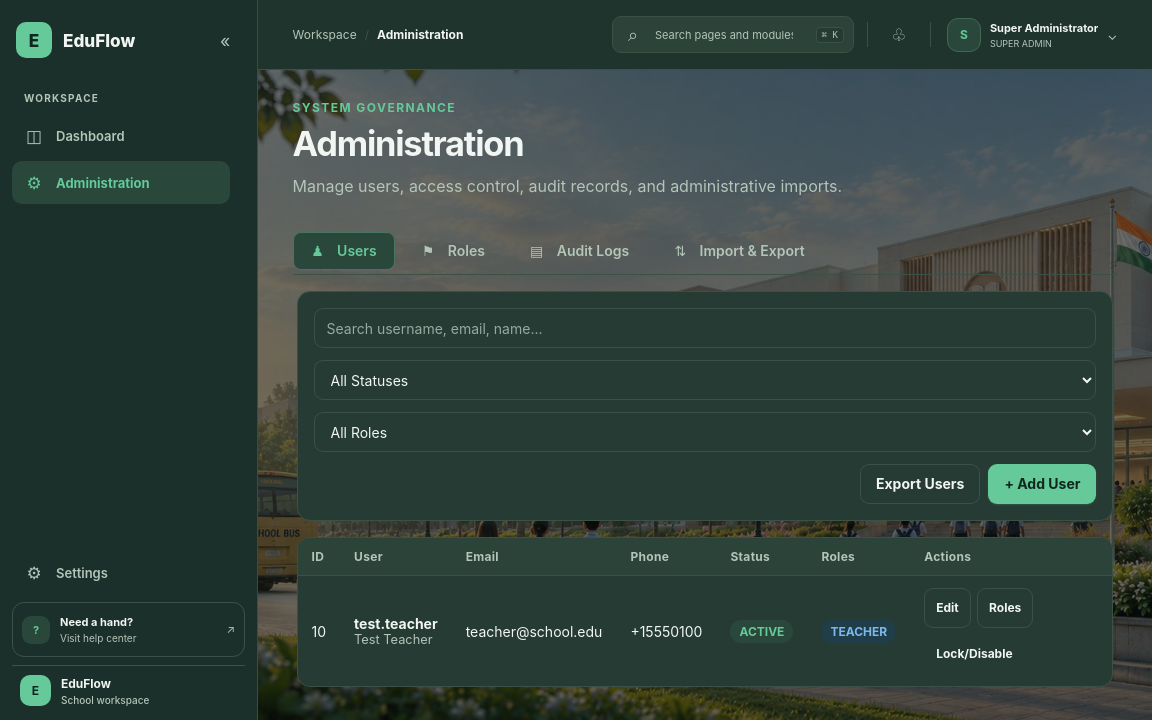
Test: Administration Workflows › switches to Roles tab and displays roles
Expected: the heading "Administration" is shown, 292,123 -> 523,164
Click the tab "⚑ Roles": (453, 251) 403,232 -> 504,270
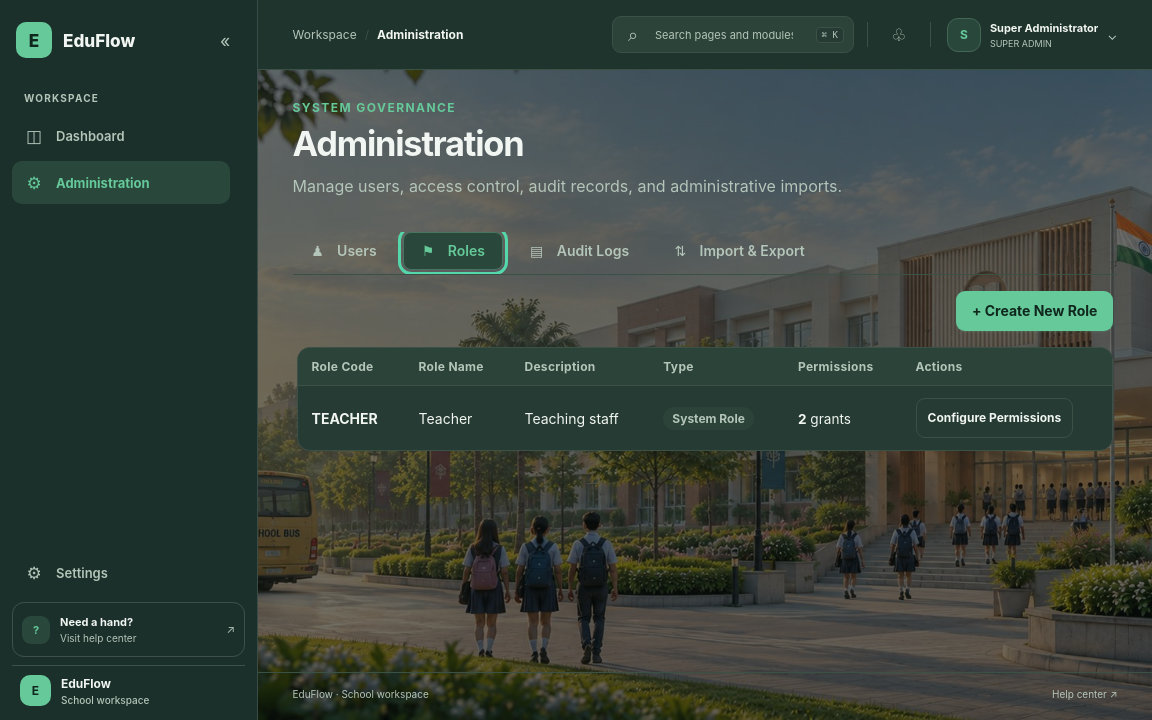
Expected: the text "TEACHER" is shown, 312,410 -> 378,427
Expected: the text "Teaching staff" is shown, 510,386 -> 649,450
